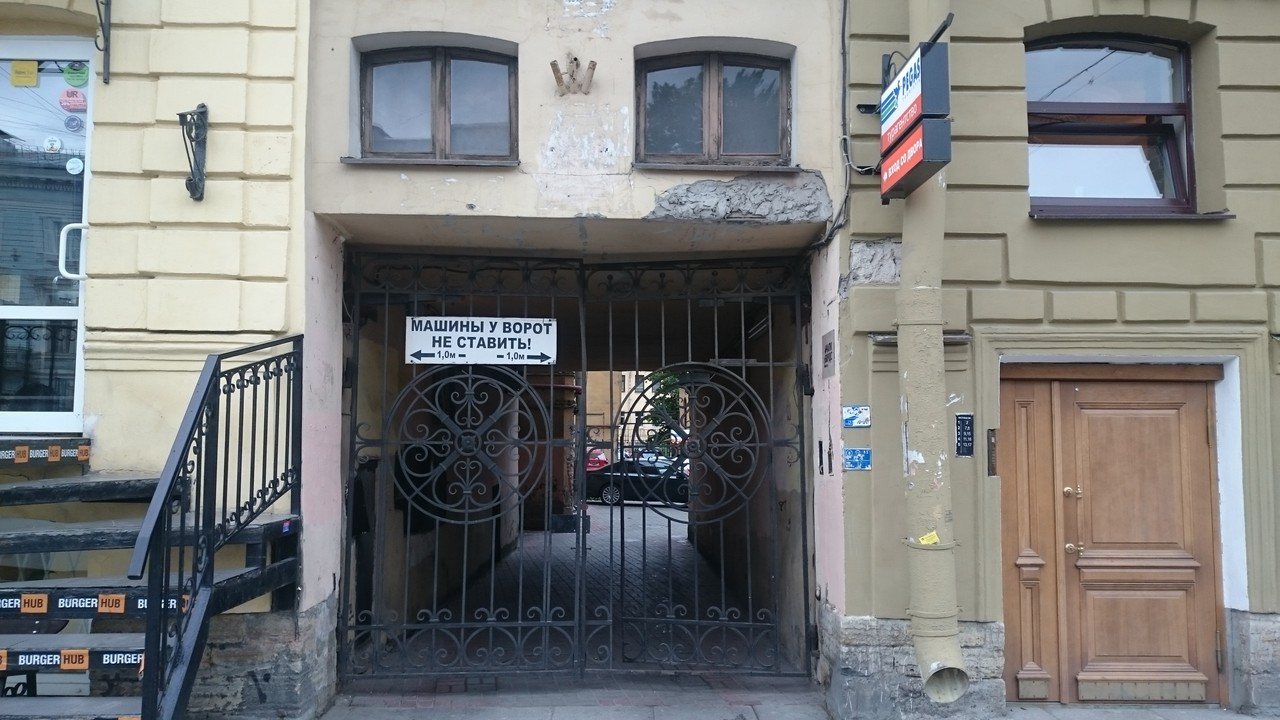arch: (316, 211, 831, 707)
cantilever: (856, 12, 950, 203)
door: (1052, 377, 1220, 704)
window: (1027, 24, 1197, 214), (635, 45, 795, 164), (359, 41, 516, 162)
